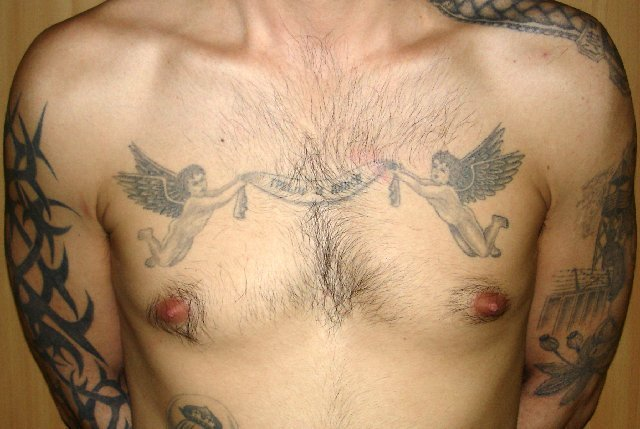tatu1_angel: (391, 121, 528, 263), (113, 139, 237, 273)
tatu3_bukva: (242, 161, 384, 213)
